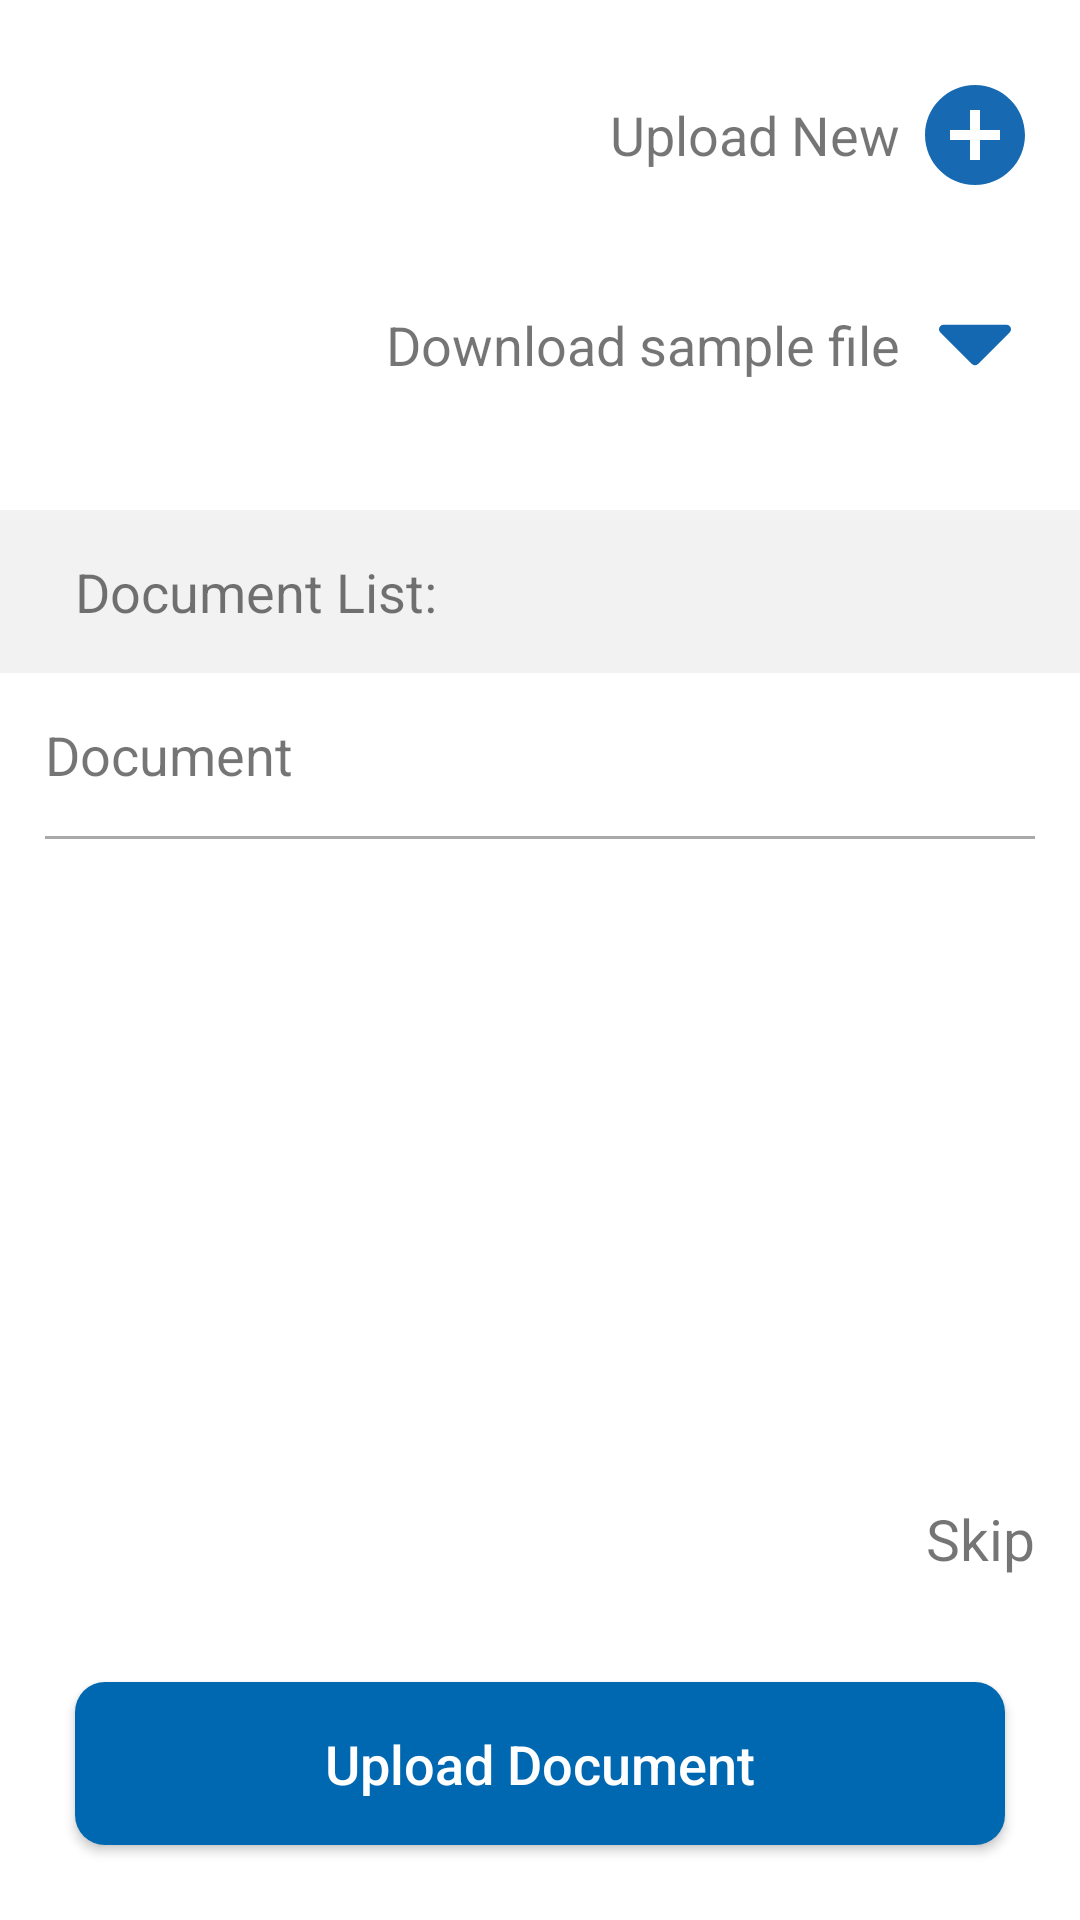

Point at icon controls on the screen. Image size 1080 x 1920, points as point (x, y).
add document: point (975, 135)
caret down: point (975, 345)
